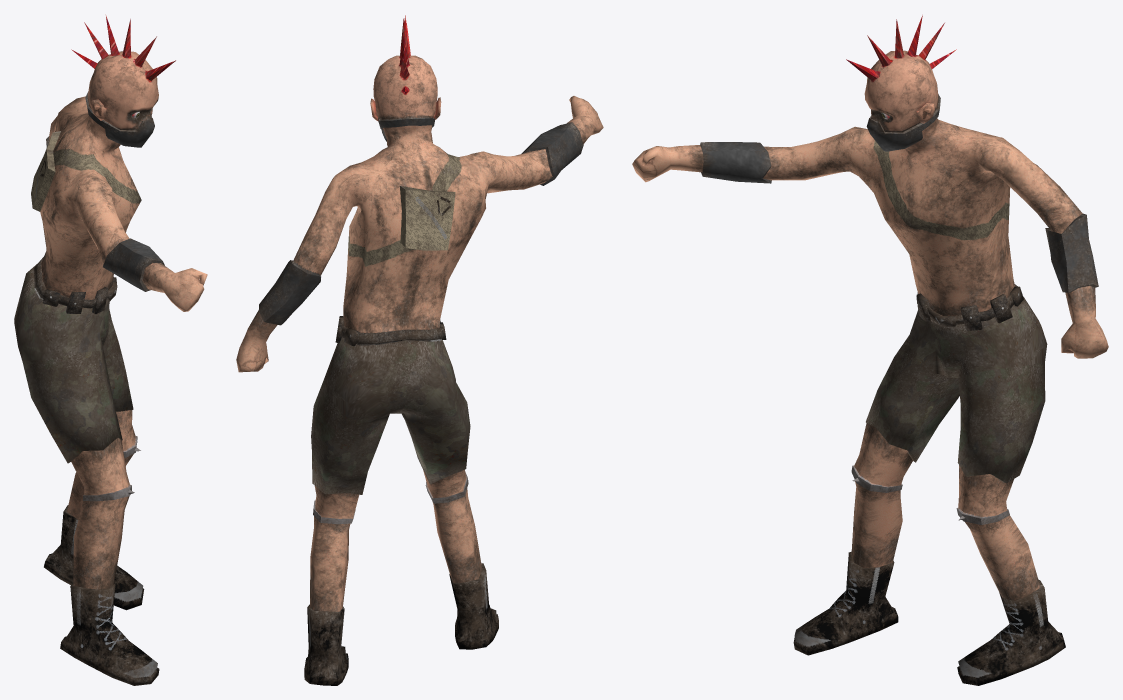
Rendered from Anim_disparar_pistola_npc2.0023.obj.
3 renders of one model, left to right at view 1: azimuth 30°, elevation 25°; view 2: azimuth 150°, elevation 25°; view 3: azimuth 270°, elevation 25°, orthographic. The views are drawn at different scales.
Parts seen in each view (by area): view 1: polySurface1; view 2: polySurface1; view 3: polySurface1.
Boxes of the visible parts, x1,y1,x2,y2 form: polySurface1: (14, 14, 207, 685); polySurface1: (236, 15, 603, 685); polySurface1: (632, 15, 1108, 685).
Bounding box in the file's own units: 2.61 × 9.94 × 6.65.
